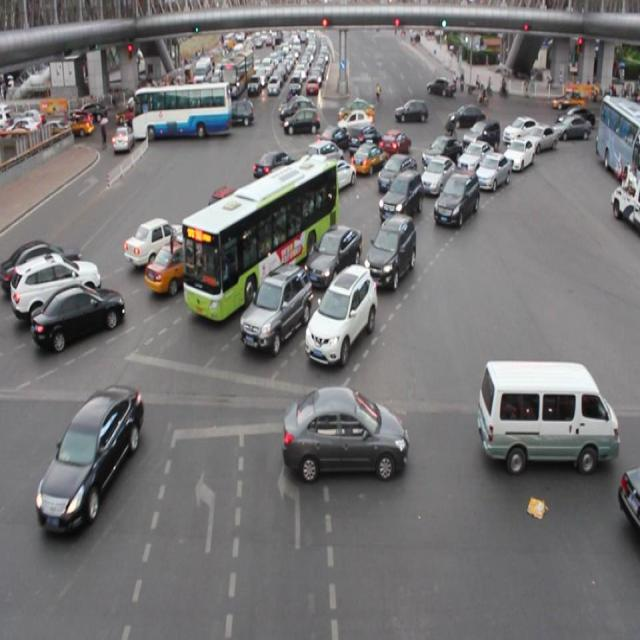car: (37, 385, 141, 534), (283, 386, 407, 478), (304, 264, 376, 363), (240, 265, 309, 351), (32, 284, 124, 347), (12, 253, 100, 317), (144, 237, 218, 294), (1, 238, 82, 287), (366, 212, 415, 288), (306, 225, 362, 288), (123, 216, 189, 262), (218, 211, 278, 258), (272, 183, 328, 231), (432, 170, 478, 225), (207, 186, 260, 231), (378, 168, 421, 222), (267, 166, 315, 209), (618, 468, 640, 542), (422, 134, 463, 172), (378, 153, 416, 192), (473, 151, 509, 192), (420, 155, 456, 193), (457, 139, 493, 177), (317, 156, 356, 191), (350, 139, 386, 176), (462, 119, 498, 150), (348, 125, 382, 157), (252, 151, 295, 176), (377, 129, 410, 159), (315, 126, 350, 154), (500, 138, 532, 168), (520, 126, 556, 151), (503, 117, 541, 139)
truck: (478, 359, 618, 468), (306, 142, 344, 176)
van: (184, 159, 337, 321)
